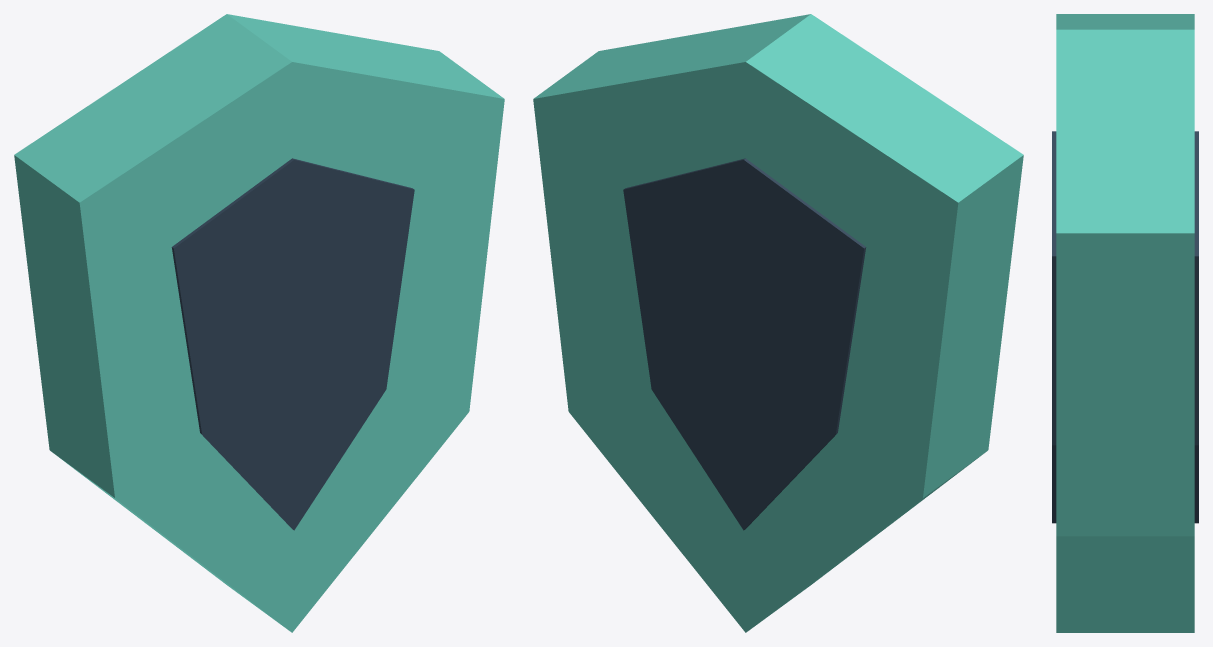
The model's file is shield.glb.
3 views of the same model, side by side, from view 1: azimuth 30°, elevation 25°; view 2: azimuth 150°, elevation 25°; view 3: azimuth 270°, elevation 25° (orthographic). The views are drawn at different scales.
Parts seen in each view (by area): view 1: shield; view 2: shield; view 3: shield.
Boxes of the visible parts, box(x1,y1,x2,y2) form: shield: box(14, 14, 504, 632); shield: box(533, 14, 1023, 632); shield: box(1052, 14, 1198, 632).
Size of the model in its own units: 0.6 by 0.77 by 0.17.
